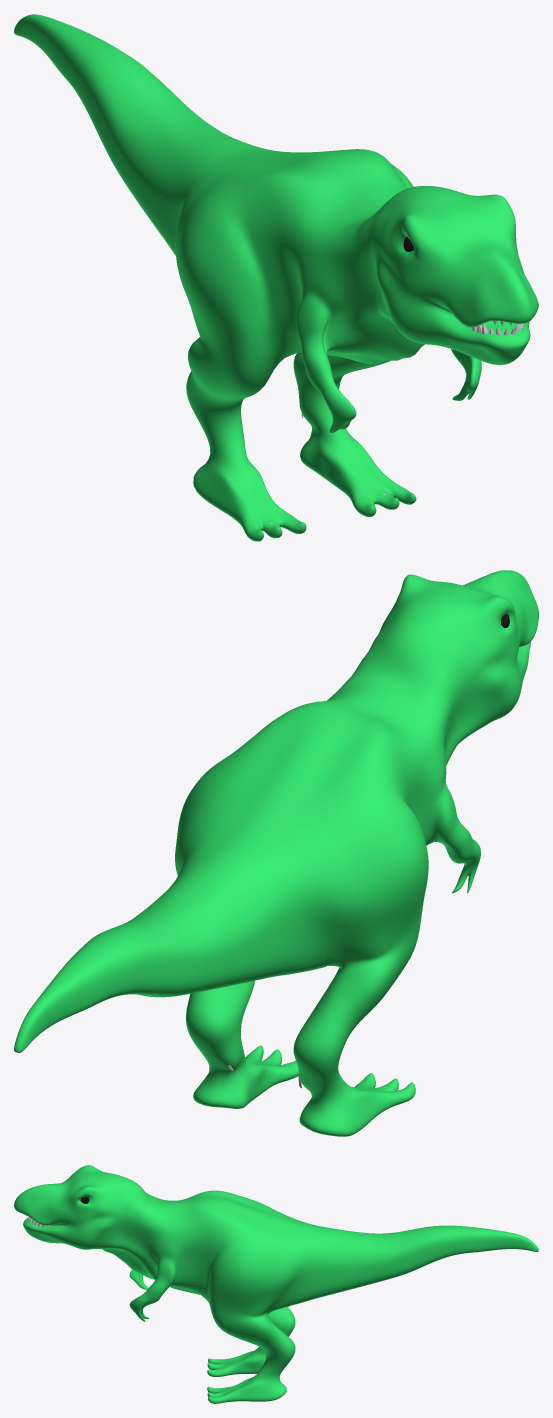
The model's file is Optimized_TREX.fbx.
3 renders of one model, top to bottom at view 1: azimuth 30°, elevation 25°; view 2: azimuth 150°, elevation 25°; view 3: azimuth 270°, elevation 25°, orthographic. The views are drawn at different scales.
Visible parts, largest first — view 1: T_Rex_Adjusted_Verticies; view 2: T_Rex_Adjusted_Verticies; view 3: T_Rex_Adjusted_Verticies.
Part boxes in pixels (x1,y1,x2,y2): T_Rex_Adjusted_Verticies: (14,14,538,541); T_Rex_Adjusted_Verticies: (14,570,538,1136); T_Rex_Adjusted_Verticies: (14,1165,538,1403).
Size of the model in its own units: 178 by 300 by 681.
